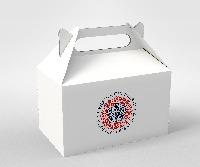undamaged: (31, 20, 172, 158)
